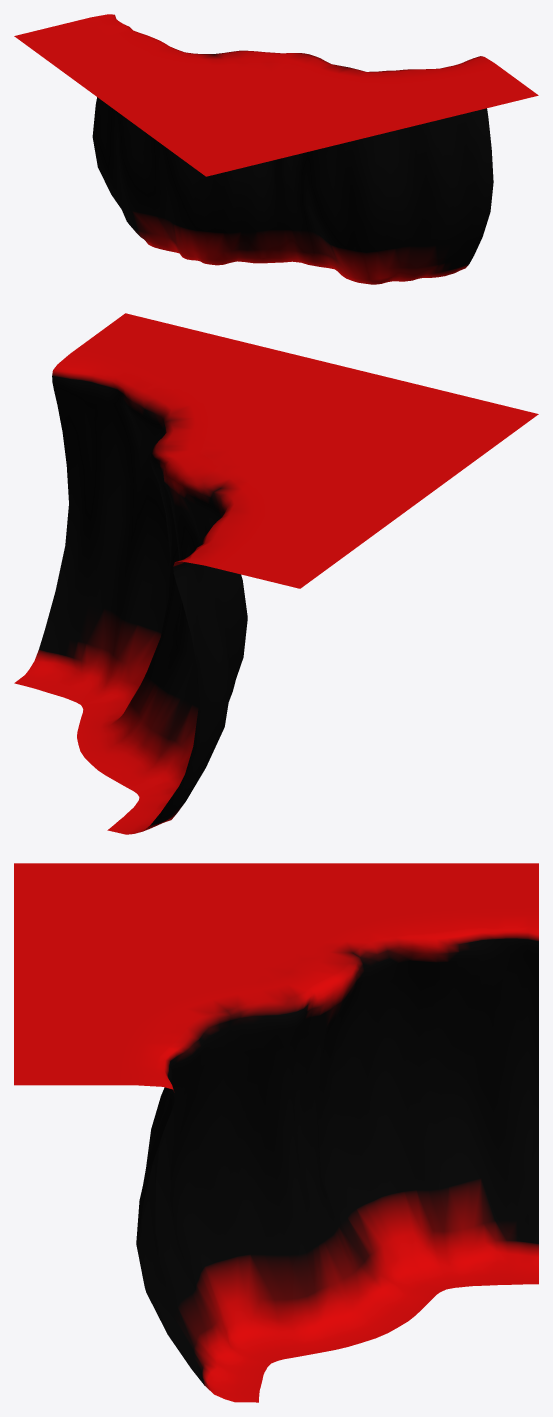
The model's file is GroundCliff04A 2M Foreground.fbx.
3 renders of one model, top to bottom at view 1: azimuth 30°, elevation 25°; view 2: azimuth 150°, elevation 25°; view 3: azimuth 270°, elevation 25°, orthographic. The views are drawn at different scales.
Visible parts, largest first — view 1: GroundCliff04A 2M Foreground; view 2: GroundCliff04A 2M Foreground; view 3: GroundCliff04A 2M Foreground.
Part boxes in pixels (bbox=[...]): GroundCliff04A 2M Foreground: bbox=[14, 14, 538, 284]; GroundCliff04A 2M Foreground: bbox=[14, 313, 538, 834]; GroundCliff04A 2M Foreground: bbox=[14, 863, 538, 1402].
Bounding box in the file's own units: 3 × 2 × 3.
